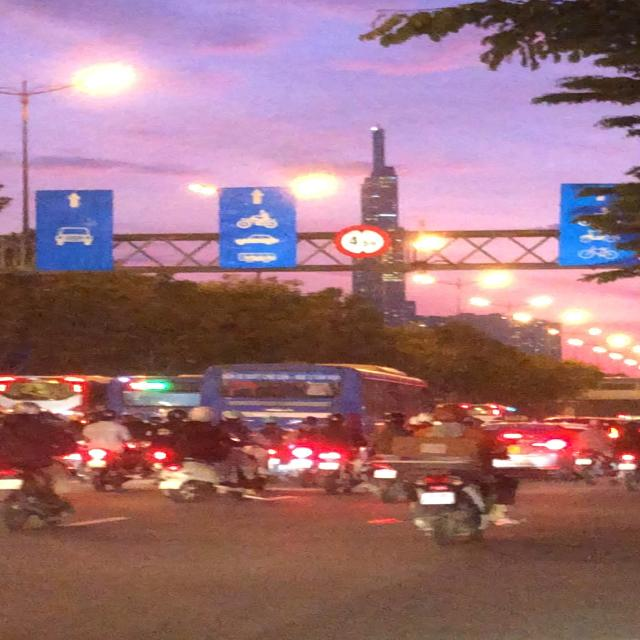Bien bao han che chieu cao: (322, 219, 396, 261)
